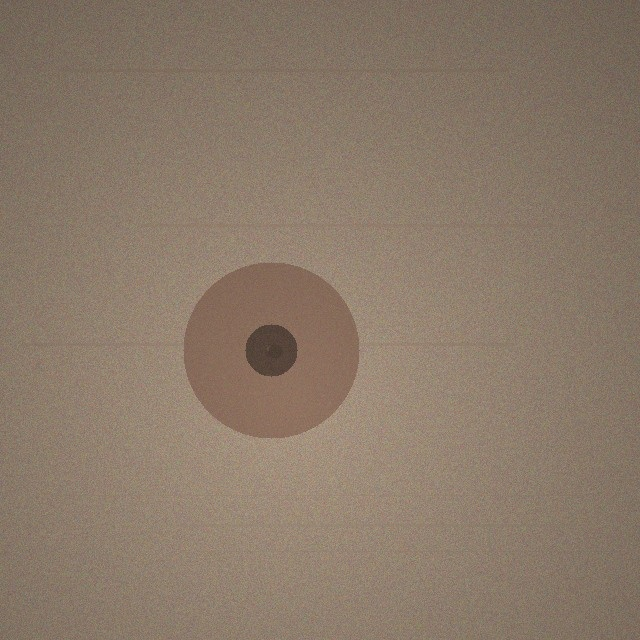cold_weld: (183, 262, 359, 438)
